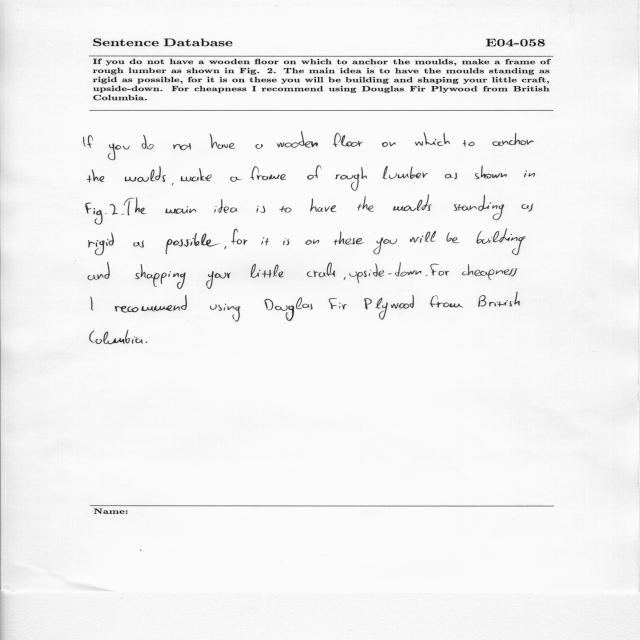word: (349, 262, 421, 283), (135, 264, 186, 289), (477, 229, 526, 255), (454, 195, 504, 220), (364, 295, 414, 320), (115, 295, 187, 312), (265, 297, 313, 321), (166, 233, 219, 254), (462, 264, 518, 280), (336, 167, 367, 191), (90, 330, 143, 344), (277, 131, 318, 148), (125, 166, 166, 182), (478, 292, 520, 307), (393, 195, 432, 211), (88, 233, 114, 256), (383, 166, 428, 179), (492, 133, 534, 146), (210, 304, 240, 322), (250, 166, 286, 180), (415, 132, 450, 146), (250, 264, 284, 278), (86, 203, 107, 225), (206, 271, 231, 289), (430, 295, 463, 308), (333, 133, 363, 147), (334, 231, 364, 245), (307, 263, 335, 278), (475, 166, 507, 179), (373, 238, 397, 255), (181, 169, 212, 182), (124, 198, 146, 216), (88, 262, 110, 280), (210, 134, 236, 149), (108, 144, 130, 161), (310, 199, 336, 212), (215, 199, 238, 213), (410, 231, 436, 243), (357, 196, 374, 212), (231, 229, 247, 245), (166, 206, 197, 214), (430, 264, 450, 276), (87, 170, 104, 183), (329, 298, 347, 310), (307, 166, 321, 180), (142, 135, 154, 149), (447, 232, 460, 243), (173, 143, 191, 150), (84, 135, 93, 148), (522, 203, 534, 212), (110, 204, 118, 215), (463, 140, 475, 147), (306, 239, 320, 245), (524, 171, 535, 178), (133, 241, 144, 248), (445, 173, 457, 179), (280, 206, 292, 212), (262, 237, 270, 246), (382, 142, 396, 147), (257, 206, 266, 213), (230, 177, 242, 182), (283, 239, 289, 246), (255, 144, 263, 149), (91, 297, 93, 311), (225, 246, 227, 249), (344, 277, 346, 280), (122, 214, 125, 215), (172, 183, 173, 185), (426, 275, 428, 276), (146, 342, 148, 343)
